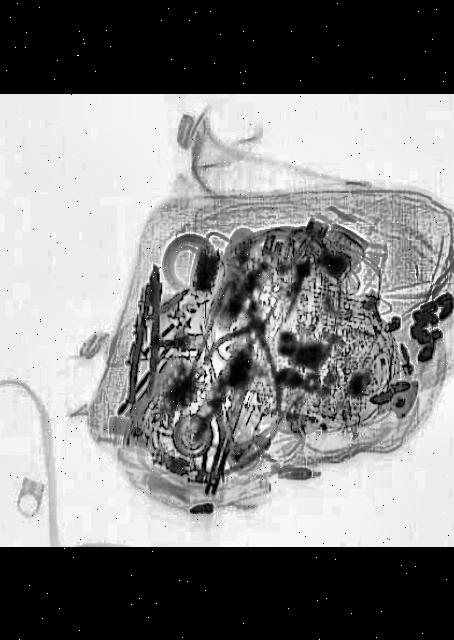Pliers: (198, 297, 306, 408), (129, 262, 173, 403)
